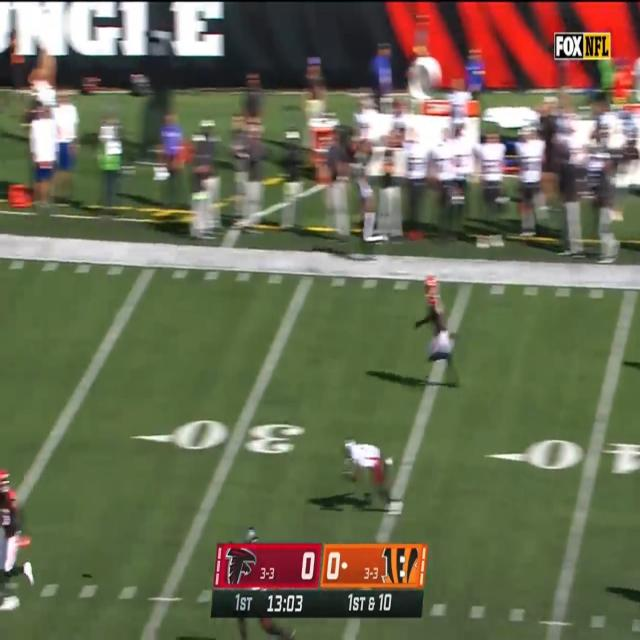Ball: (345, 137, 358, 160)
